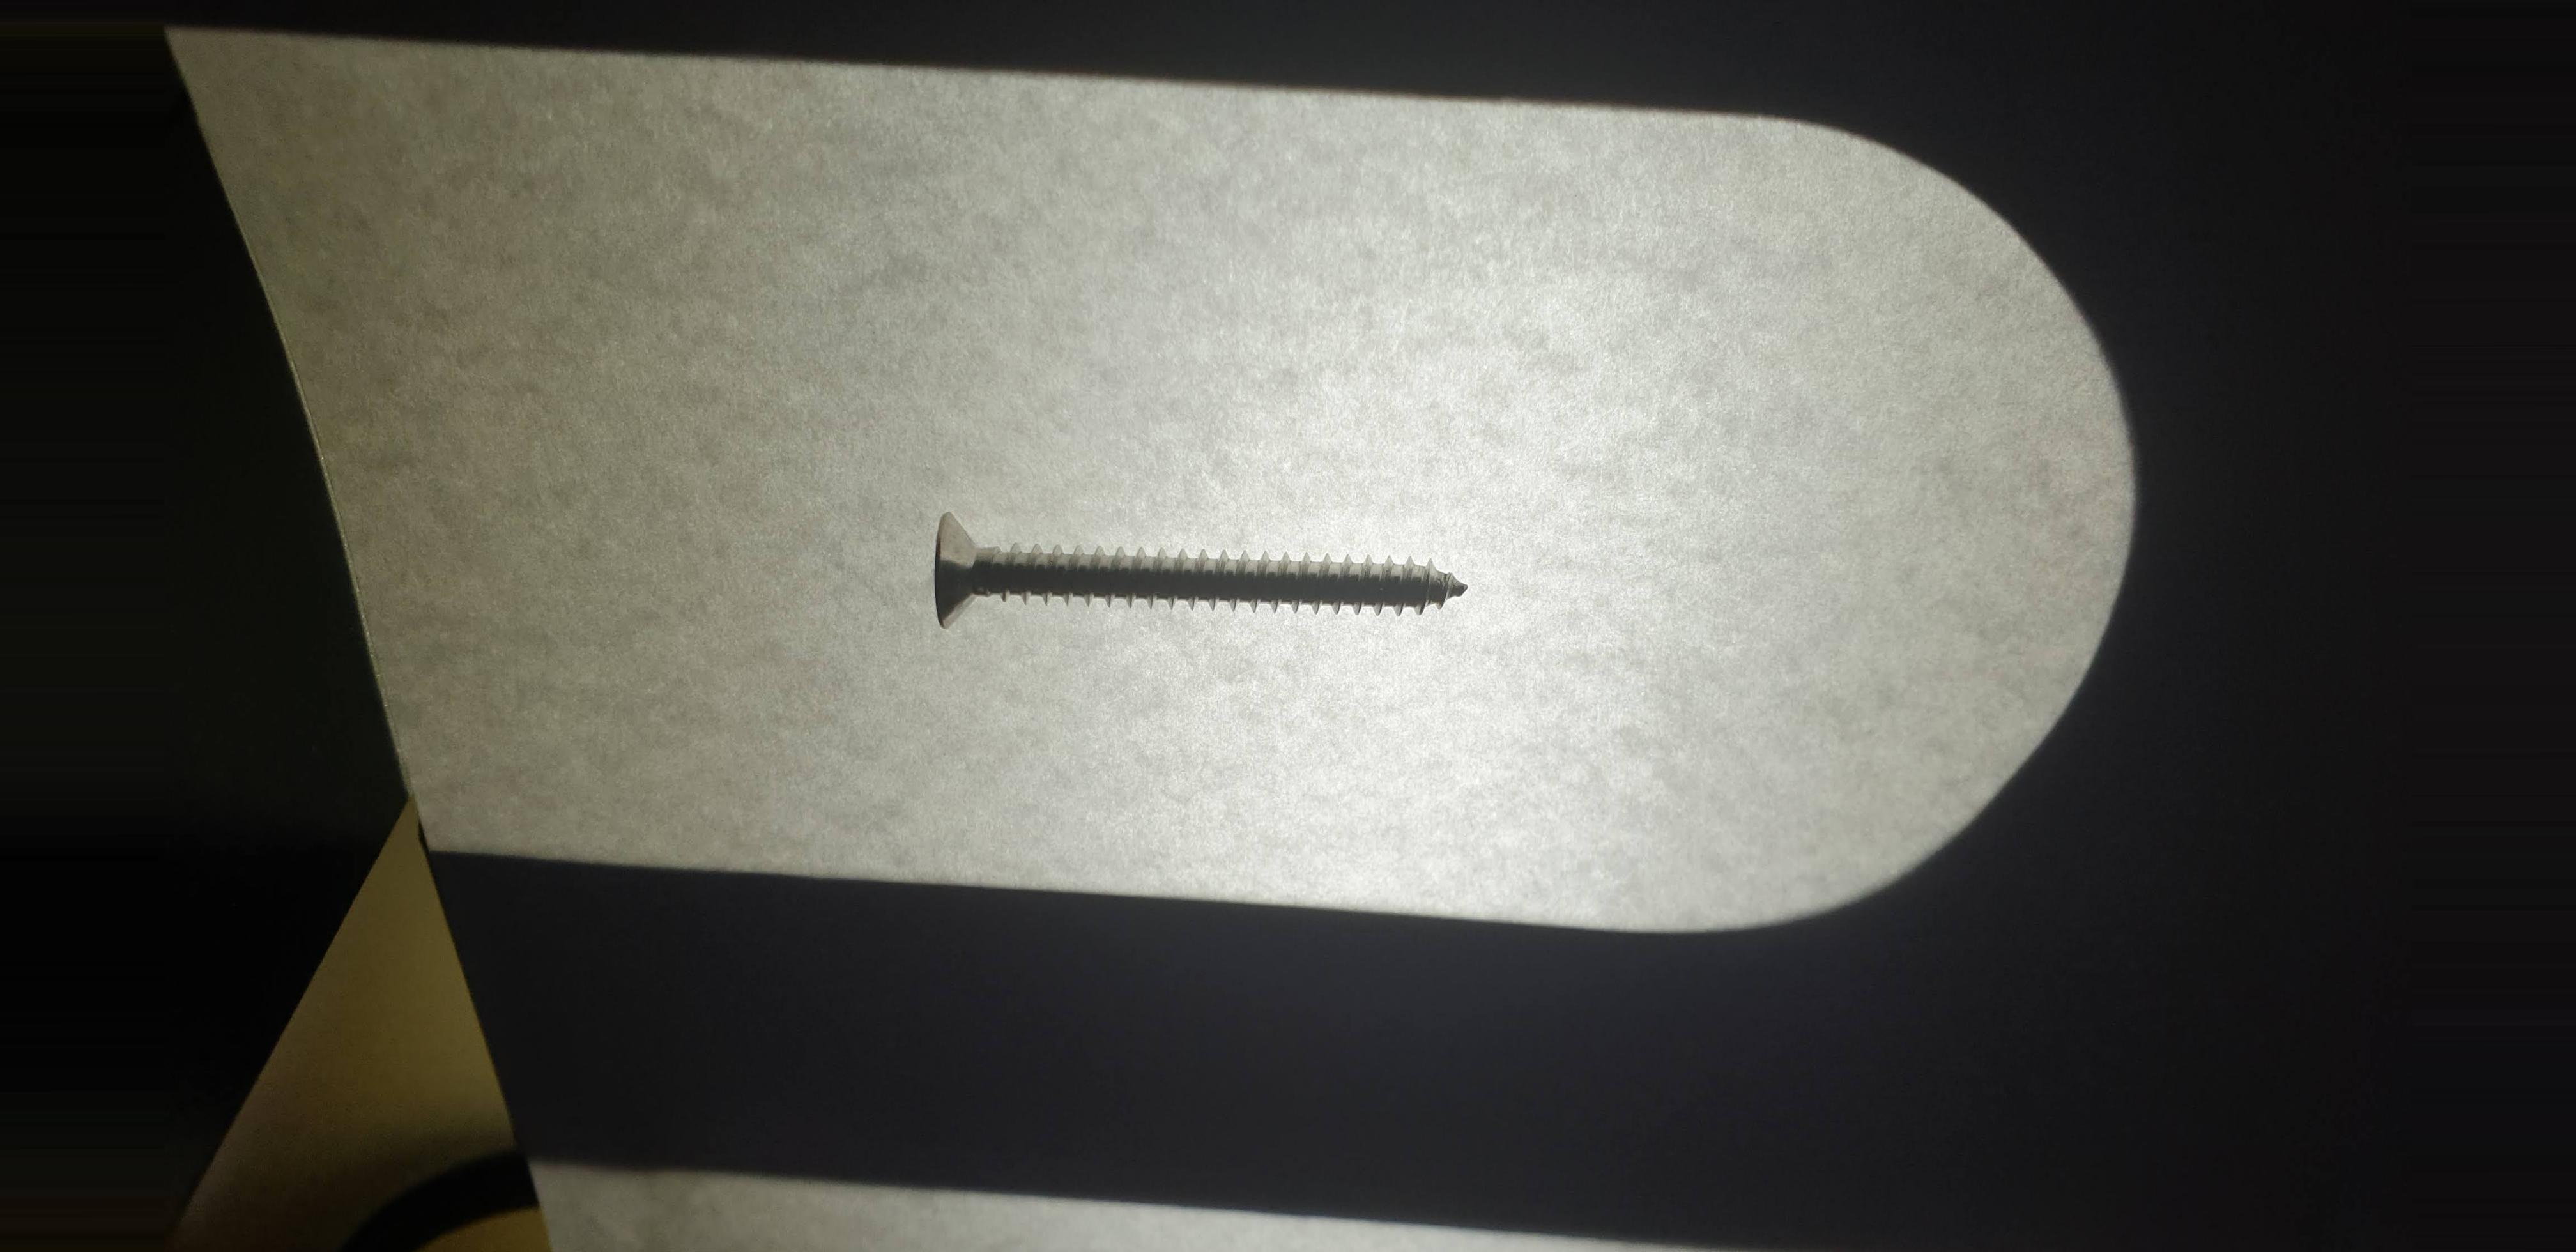S001: (885, 483, 1526, 675)
